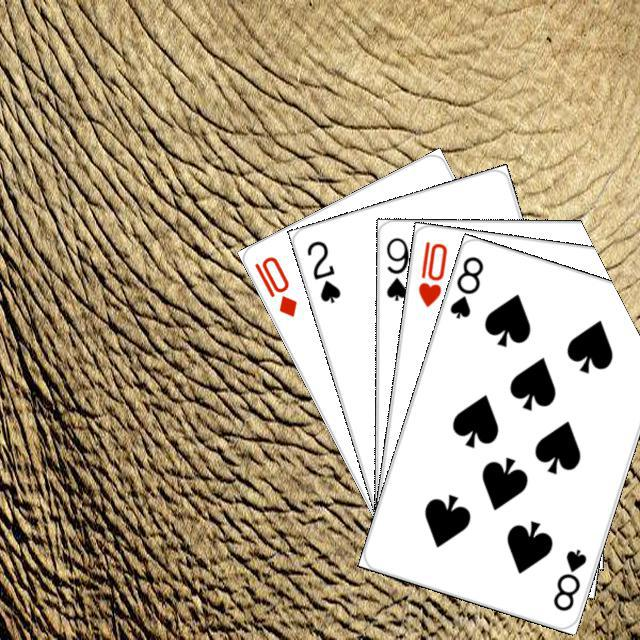10d: (249, 251, 299, 319)
10h: (413, 236, 449, 309)
2s: (301, 235, 343, 305)
8s: (444, 251, 485, 321), (548, 544, 588, 613)
9s: (381, 232, 411, 302)
